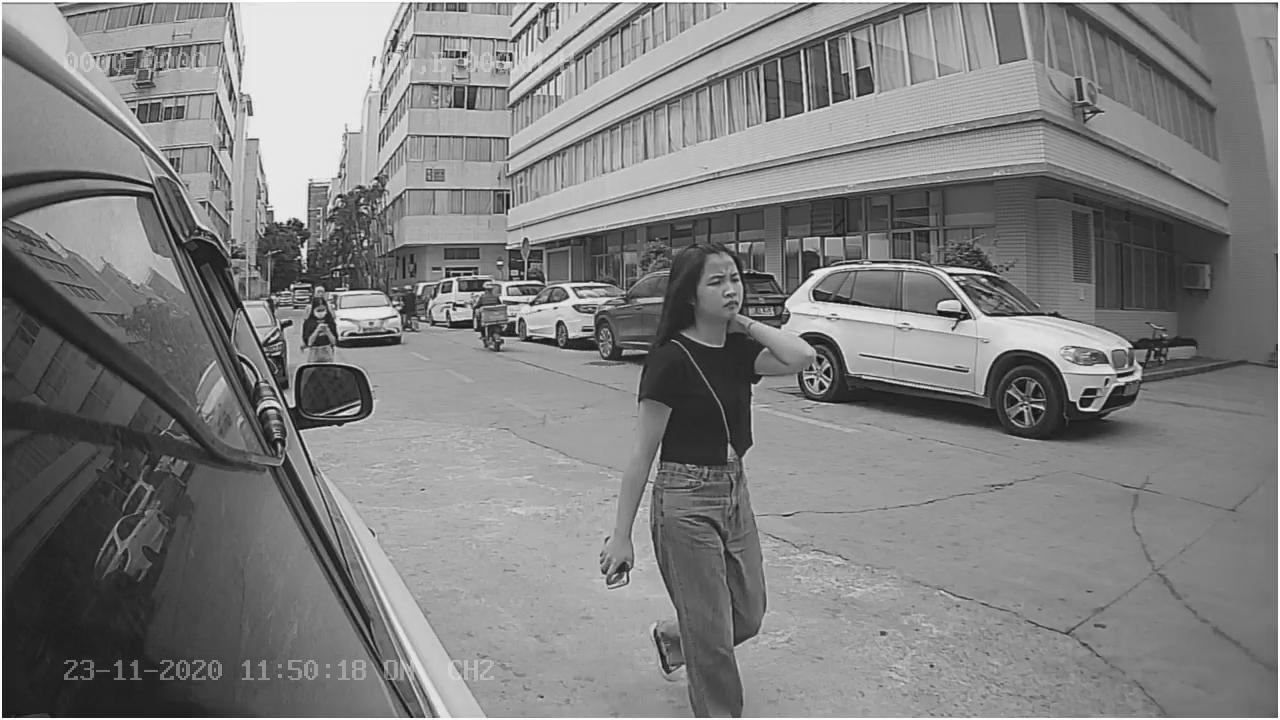person: (582, 235, 814, 579)
